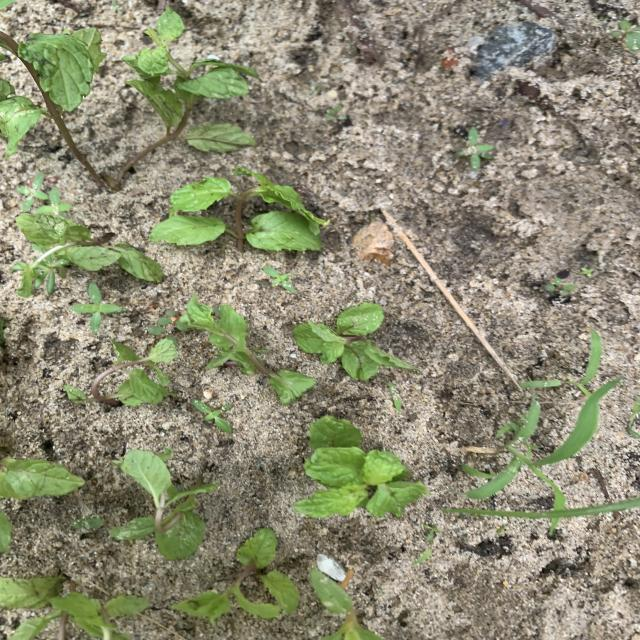crop: (0, 9, 259, 190), (178, 293, 314, 403), (153, 168, 328, 250), (295, 416, 427, 517), (111, 449, 216, 558), (15, 210, 161, 286), (173, 529, 294, 620), (294, 304, 419, 379), (2, 575, 144, 639), (64, 340, 176, 405), (0, 459, 81, 499), (185, 124, 255, 153)
weed: (463, 379, 620, 510), (520, 330, 602, 397), (310, 568, 365, 640), (72, 283, 125, 331), (456, 128, 492, 169), (195, 401, 230, 431), (18, 174, 47, 210), (610, 20, 639, 50), (36, 189, 71, 213), (149, 310, 180, 334), (264, 266, 293, 290), (545, 277, 575, 295), (325, 105, 347, 120), (389, 382, 400, 409), (414, 549, 431, 563), (425, 526, 437, 545), (580, 267, 594, 278)
